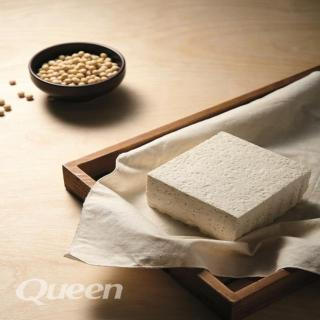Tahu: (140, 128, 320, 237)
